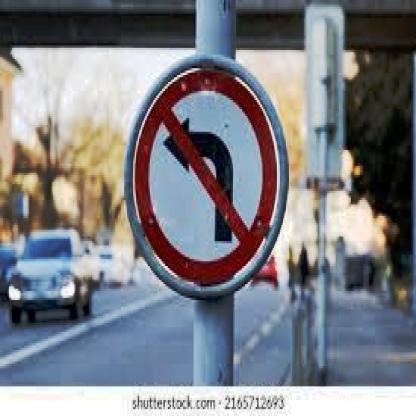No left turn: (123, 52, 290, 308)
